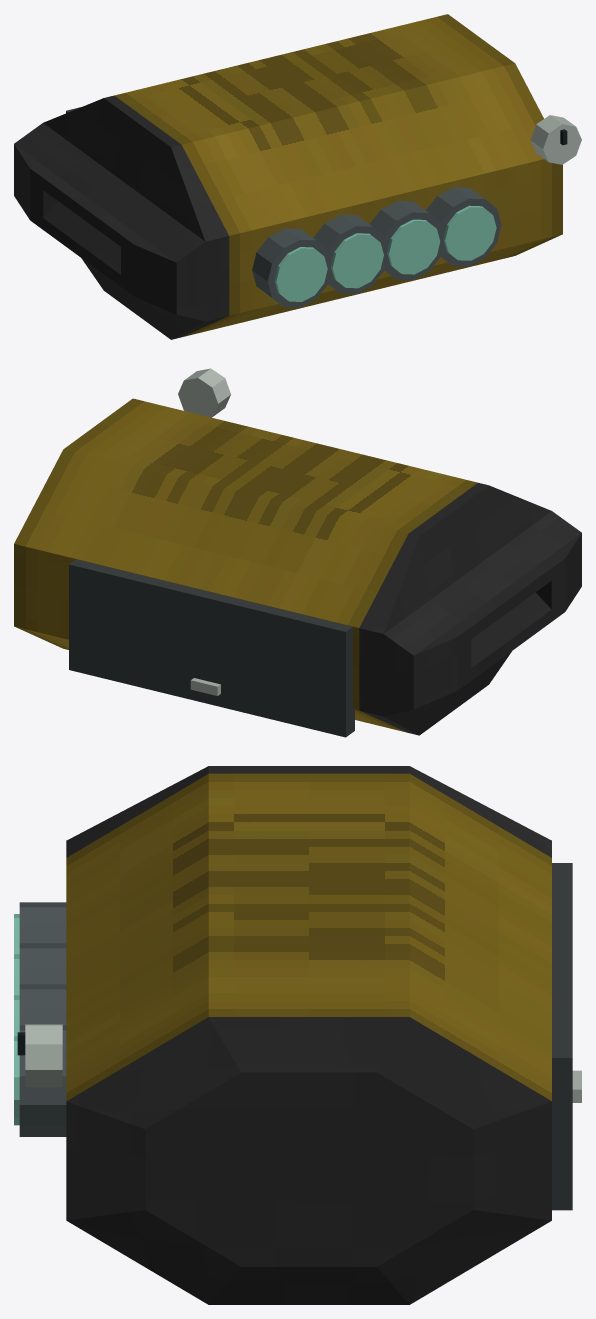
File: blender_dots_projector_3.glb
The picture shows the model from 3 angles, top to bottom: view 1: azimuth 30°, elevation 25°; view 2: azimuth 150°, elevation 25°; view 3: azimuth 270°, elevation 25°; orthographic projection. The views are drawn at different scales.
Visible parts, largest first — view 1: blender_dots_projector_3; view 2: blender_dots_projector_3; view 3: blender_dots_projector_3.
Part boxes in pixels (x1=…): blender_dots_projector_3: x1=14, y1=14, x2=581, y2=339; blender_dots_projector_3: x1=14, y1=368, x2=581, y2=737; blender_dots_projector_3: x1=14, y1=766, x2=581, y2=1304.
Size of the model in its own units: 0.19 by 0.085 by 0.152.
Materials: 1 (1 with a texture image).
